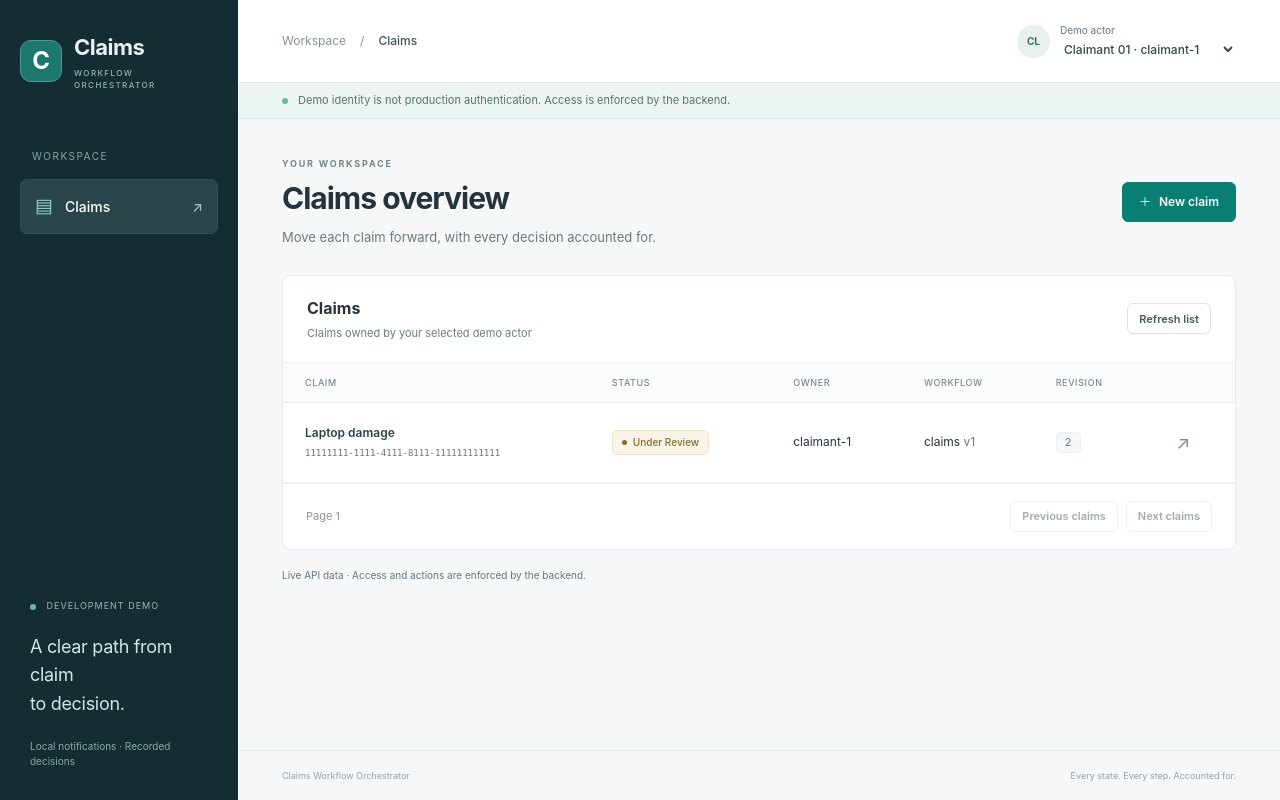
Test case: claims demo workspace › shows detail authorization errors without inventing a claim
What coordinates should you click on to do the following:
click the button named "Open Laptop damage"
I would click on:
 (1183, 442)
Its box is x1=1172 y1=425 x2=1194 y2=460.
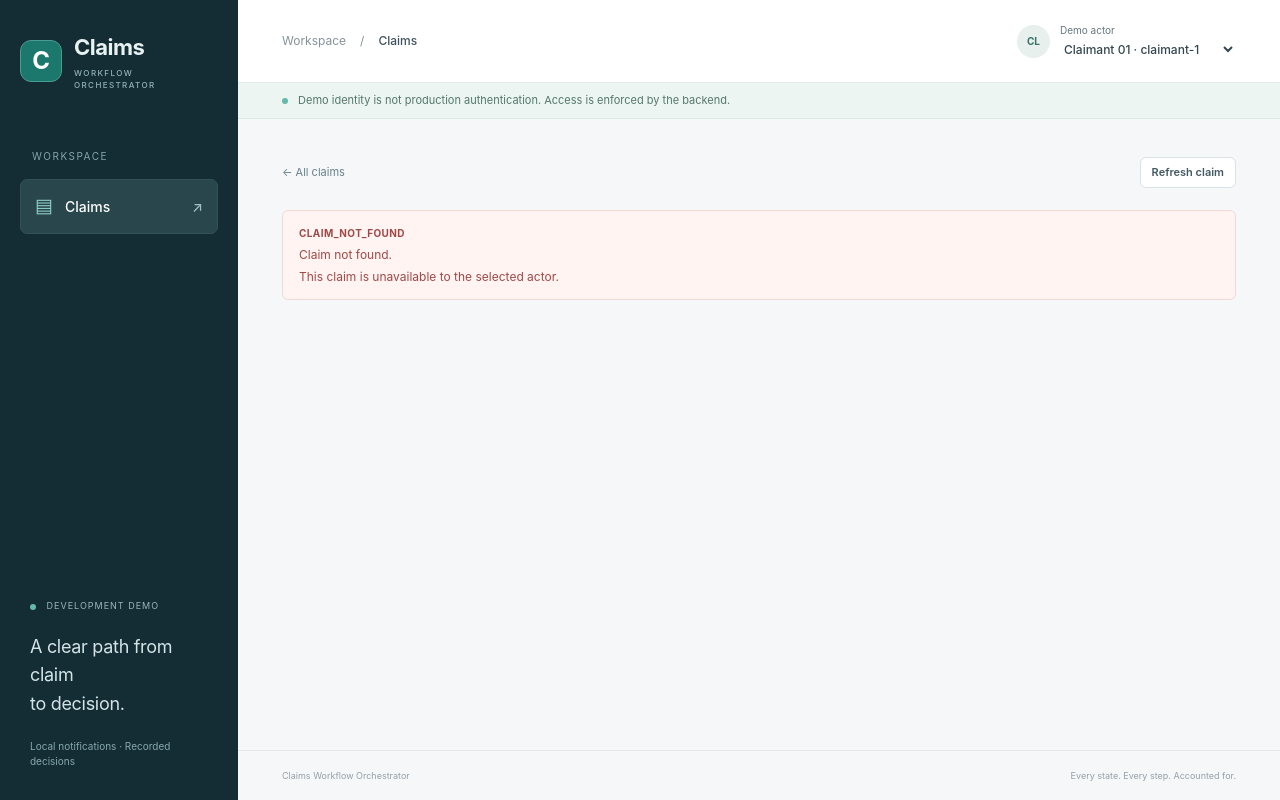
Check: the text "CLAIM_NOT_FOUND" is shown, box x1=299 y1=226 x2=405 y2=238
